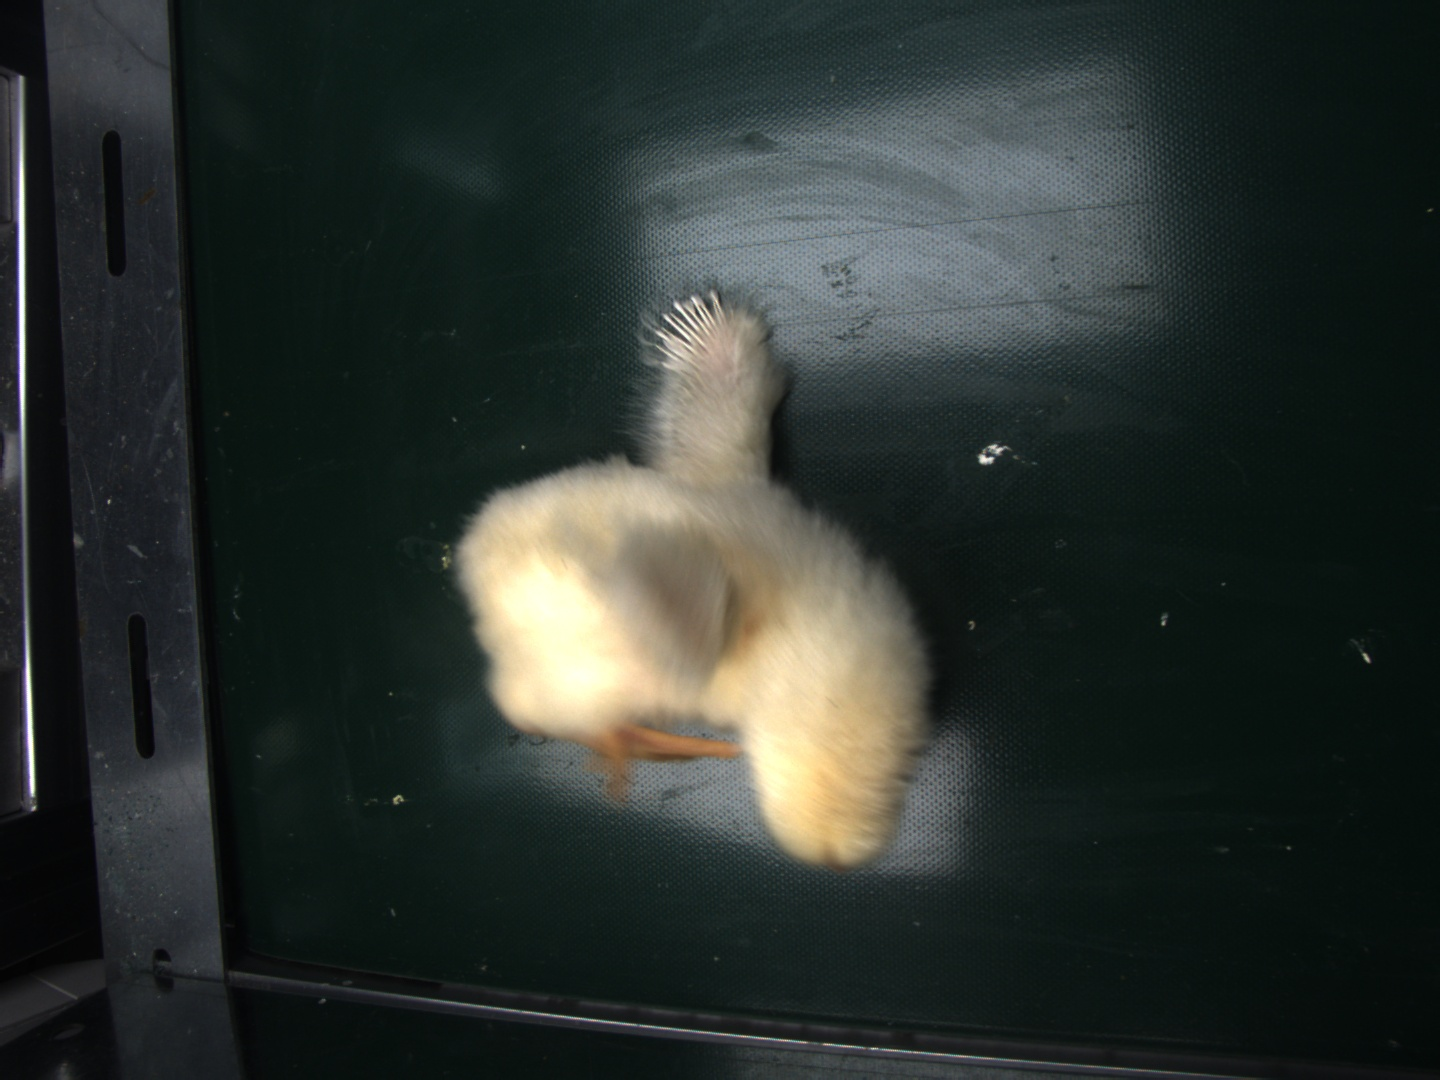male: (647, 293, 731, 366)
